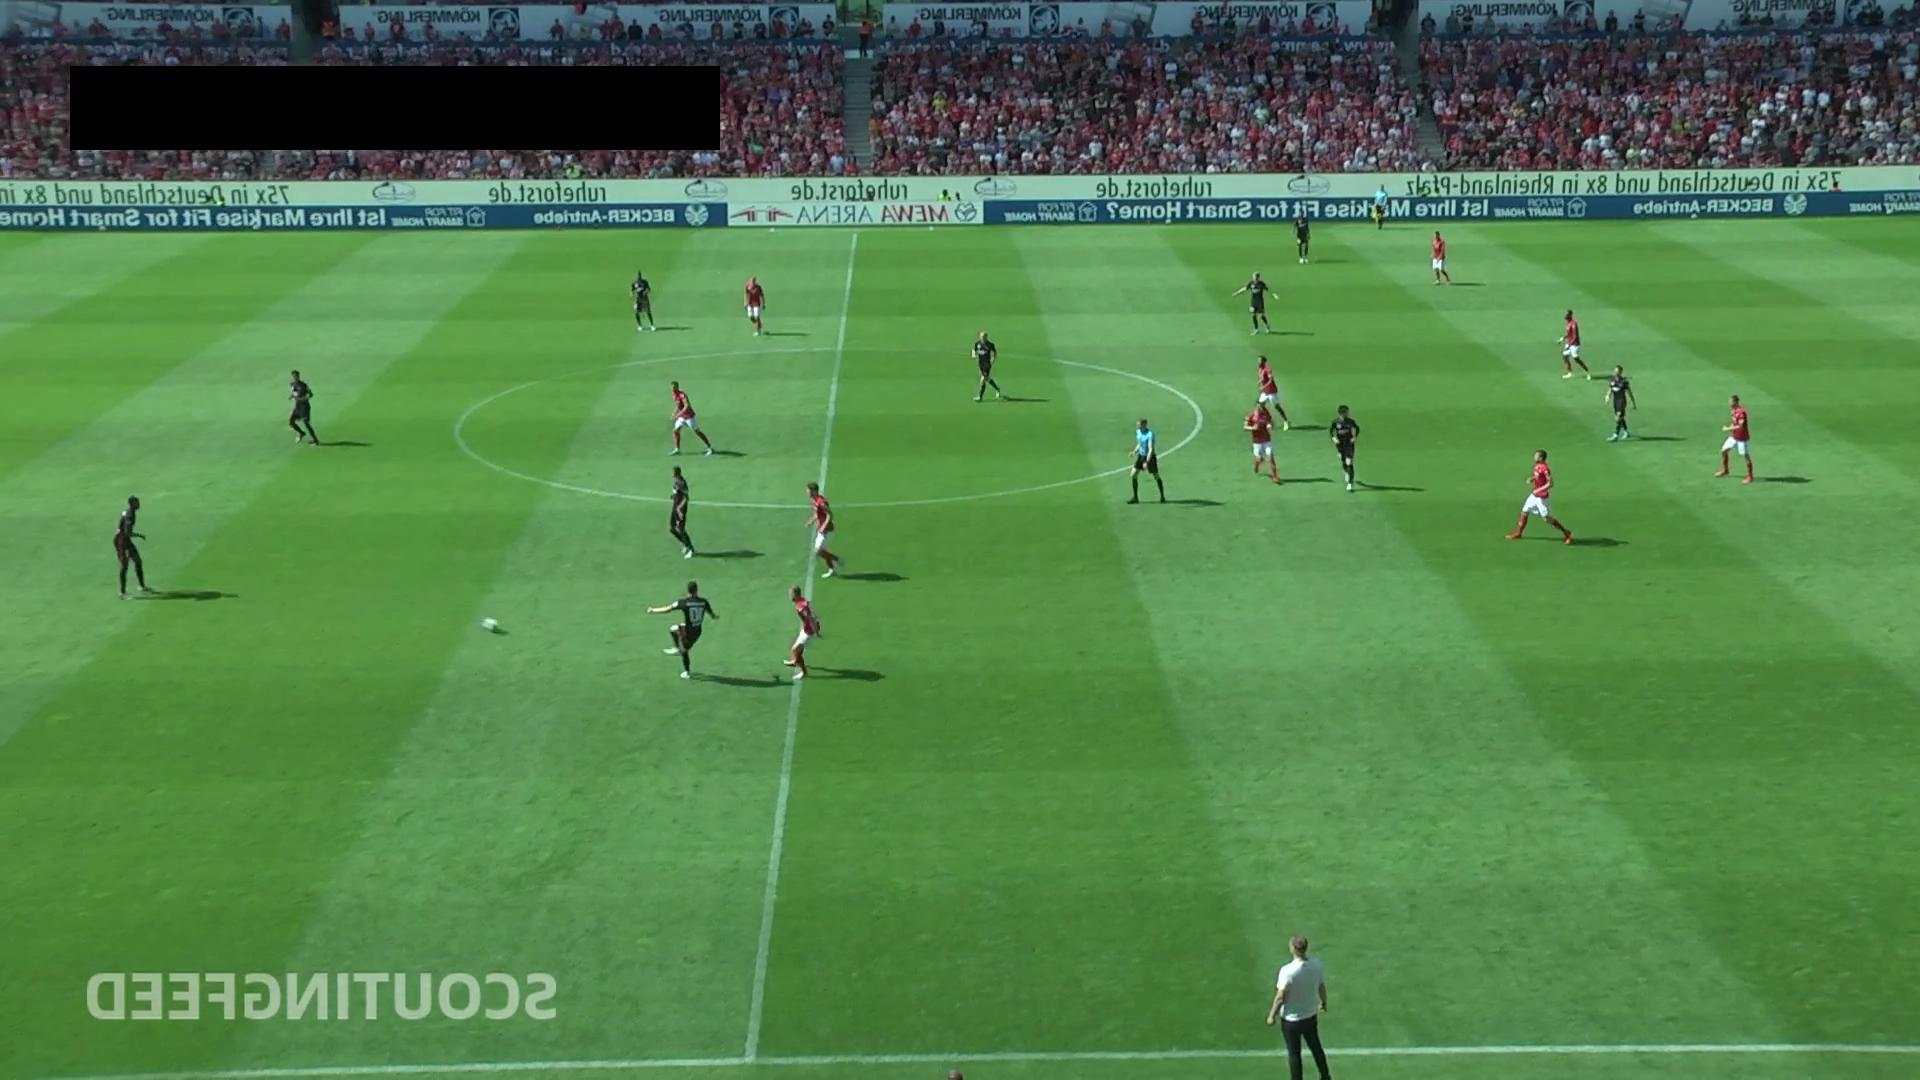ball: (480, 617, 498, 633)
player: (646, 580, 720, 679), (1504, 449, 1573, 545), (803, 481, 843, 578), (114, 495, 151, 599), (783, 585, 822, 679), (1713, 394, 1754, 483), (668, 380, 714, 457), (1230, 272, 1282, 337), (1244, 399, 1282, 485), (1256, 354, 1291, 432), (1329, 404, 1360, 492), (286, 370, 320, 446), (1604, 364, 1637, 442), (1558, 308, 1593, 380), (668, 465, 695, 558), (971, 330, 1003, 403), (630, 270, 656, 332), (745, 276, 766, 336), (1431, 230, 1452, 286), (1293, 208, 1312, 265)
referee: (1125, 418, 1166, 504), (1373, 184, 1388, 230)
